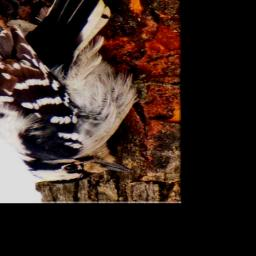Woodpecker: (0, 0, 179, 188)
